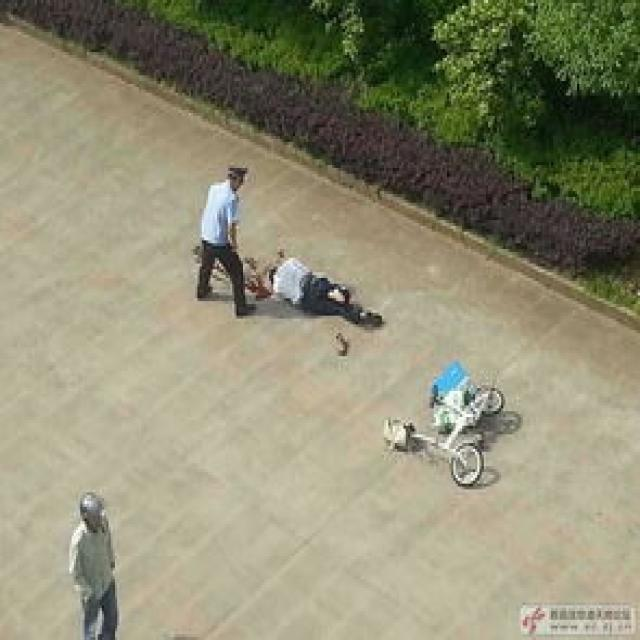Fall: (249, 258, 384, 330)
